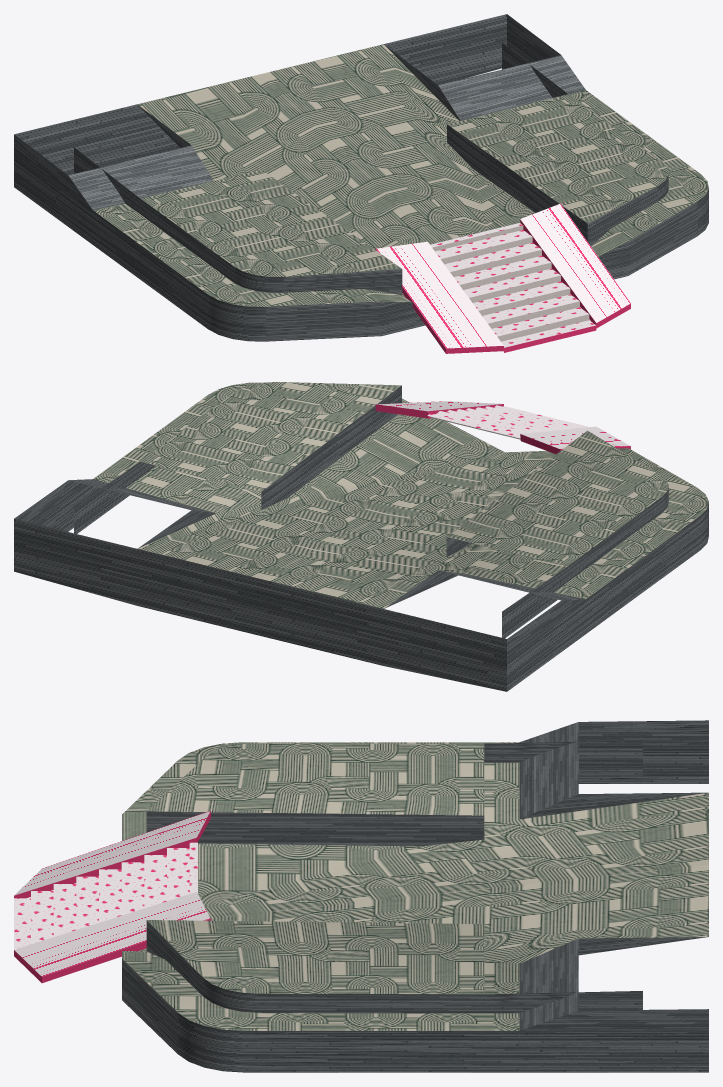
The model's file is DATING_New_Base.fbx.
3 views of the same model, one above another, from view 1: azimuth 30°, elevation 25°; view 2: azimuth 150°, elevation 25°; view 3: azimuth 270°, elevation 25° (orthographic). The views are drawn at different scales.
Visible parts, largest first — view 1: D_INT_EXT_Base; view 2: D_INT_EXT_Base; view 3: D_INT_EXT_Base.
Part boxes in pixels (bbox=[...]): D_INT_EXT_Base: bbox=[14, 14, 708, 353]; D_INT_EXT_Base: bbox=[14, 382, 708, 691]; D_INT_EXT_Base: bbox=[14, 720, 708, 1072].
Bounding box in the file's own units: 2092 × 232 × 2128.
1 material, 1 textured.
